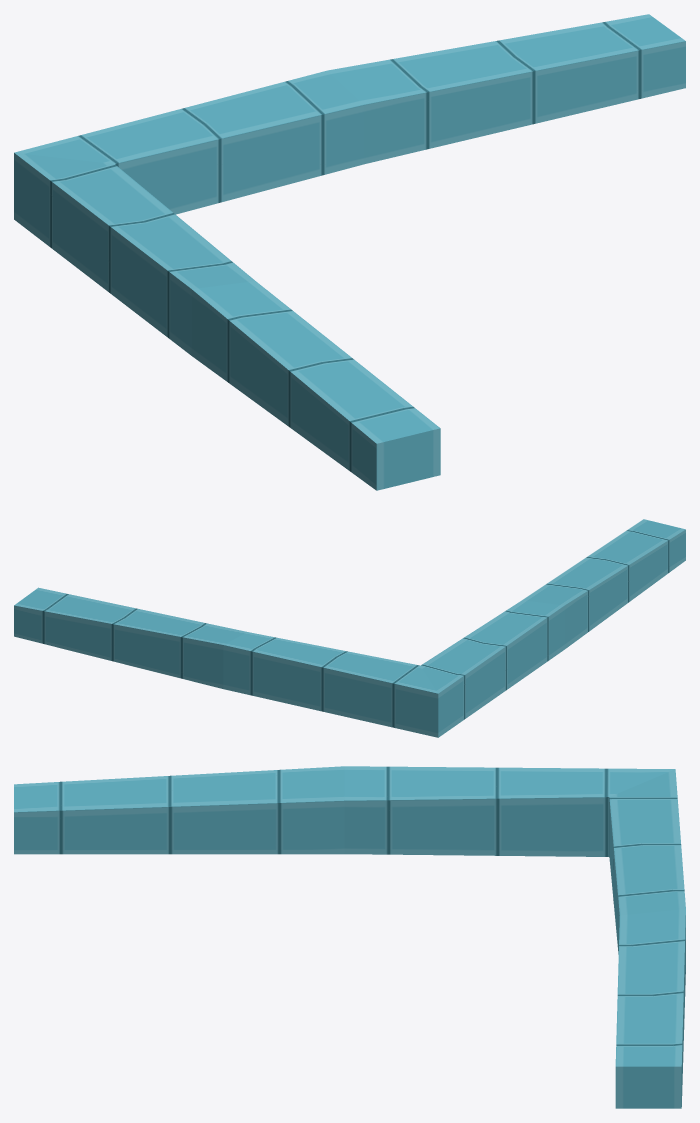
Rendered from curbC02.fbx.
The picture shows the model from 3 angles, top to bottom: view 1: azimuth 30°, elevation 25°; view 2: azimuth 150°, elevation 25°; view 3: azimuth 270°, elevation 25°; orthographic projection. The views are drawn at different scales.
Visible parts, largest first — view 1: curbC02; view 2: curbC02; view 3: curbC02.
Part boxes in pixels (bbox=[...]): curbC02: bbox=[14, 14, 685, 490]; curbC02: bbox=[14, 519, 685, 737]; curbC02: bbox=[14, 766, 685, 1108].
Size of the model in its own units: 202 by 20 by 203.
